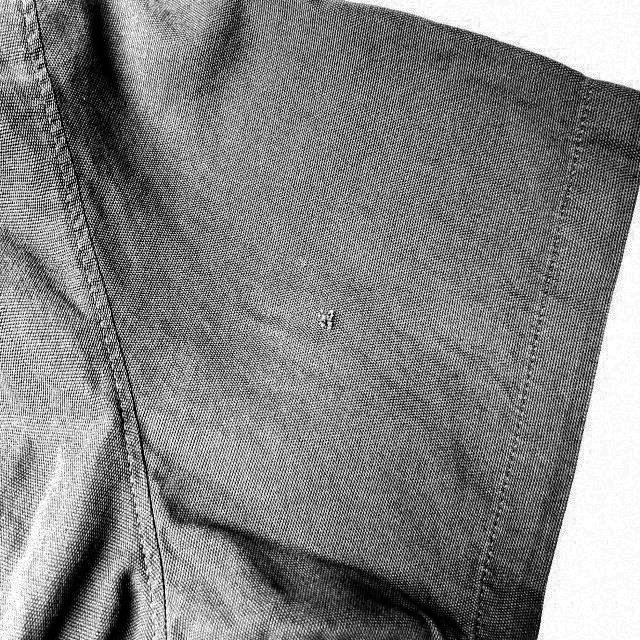Hole: (318, 296, 348, 338)
